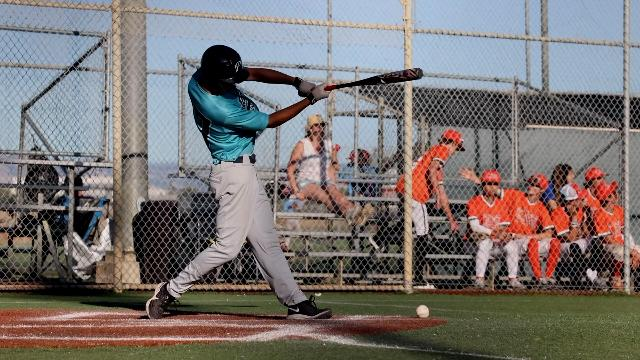baseball bat: (322, 66, 426, 92)
sports ball: (415, 306, 431, 318)
